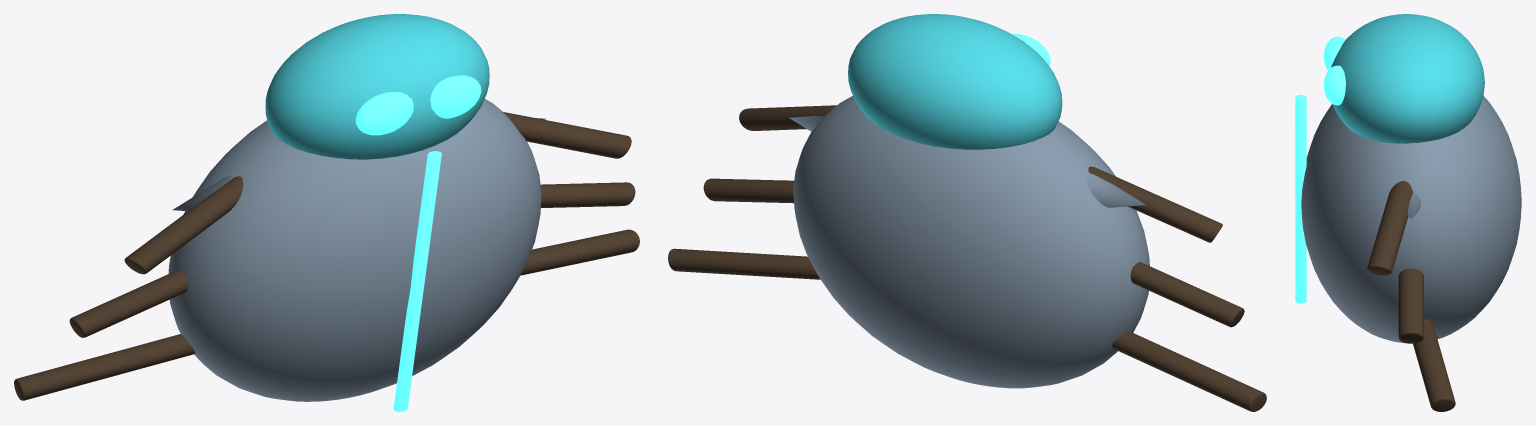
The model's file is crawler_v5.glb.
3 renders of one model, left to right at view 1: azimuth 30°, elevation 25°; view 2: azimuth 150°, elevation 25°; view 3: azimuth 270°, elevation 25°, orthographic. The views are drawn at different scales.
Parts seen in each view (by area): view 1: BEETLE_SHELL_PRIMARY, BEETLE_HEAD_ACCENT, BEETLE_LEG_SECONDARY.004, SHELL_SEAM_EMISSIVE, BEETLE_LEG_SECONDARY, BEETLE_LEG_SECONDARY.002, BEETLE_LEG_SECONDARY.001, BEETLE_LEG_SECONDARY.005, BEETLE_LEG_SECONDARY.003, EYE_EMISSIVE, EYE_EMISSIVE.001; view 2: BEETLE_SHELL_PRIMARY, BEETLE_HEAD_ACCENT, BEETLE_LEG_SECONDARY.004, BEETLE_LEG_SECONDARY.005, BEETLE_LEG_SECONDARY.002, BEETLE_LEG_SECONDARY, BEETLE_LEG_SECONDARY.003, BEETLE_LEG_SECONDARY.001, SHOULDER_TUSK_PRIMARY; view 3: BEETLE_SHELL_PRIMARY, BEETLE_HEAD_ACCENT, BEETLE_LEG_SECONDARY.001, SHELL_SEAM_EMISSIVE, BEETLE_LEG_SECONDARY.005, BEETLE_LEG_SECONDARY.003, EYE_EMISSIVE.001, EYE_EMISSIVE, SHOULDER_TUSK_PRIMARY.001.
Part boxes in pixels (left/top/right/bottom): BEETLE_SHELL_PRIMARY: left=168, top=99, right=541, bottom=401; BEETLE_HEAD_ACCENT: left=265, top=14, right=489, bottom=159; BEETLE_LEG_SECONDARY.004: left=14, top=334, right=195, bottom=400; SHELL_SEAM_EMISSIVE: left=393, top=151, right=441, bottom=411; BEETLE_LEG_SECONDARY: left=124, top=176, right=243, bottom=274; BEETLE_LEG_SECONDARY.002: left=69, top=269, right=188, bottom=337; BEETLE_LEG_SECONDARY.001: left=503, top=112, right=631, bottom=158; BEETLE_LEG_SECONDARY.005: left=520, top=229, right=639, bottom=275; BEETLE_LEG_SECONDARY.003: left=540, top=182, right=635, bottom=207; EYE_EMISSIVE: left=355, top=91, right=413, bottom=135; EYE_EMISSIVE.001: left=430, top=75, right=481, bottom=118; BEETLE_SHELL_PRIMARY: left=793, top=96, right=1149, bottom=388; BEETLE_HEAD_ACCENT: left=848, top=14, right=1062, bottom=149; BEETLE_LEG_SECONDARY.004: left=1112, top=331, right=1266, bottom=411; BEETLE_LEG_SECONDARY.005: left=668, top=248, right=820, bottom=279; BEETLE_LEG_SECONDARY.002: left=1130, top=262, right=1244, bottom=327; BEETLE_LEG_SECONDARY: left=1088, top=166, right=1222, bottom=242; BEETLE_LEG_SECONDARY.003: left=703, top=178, right=794, bottom=203; BEETLE_LEG_SECONDARY.001: left=739, top=105, right=836, bottom=130; SHOULDER_TUSK_PRIMARY: left=1086, top=173, right=1145, bottom=207; BEETLE_SHELL_PRIMARY: left=1301, top=96, right=1521, bottom=343; BEETLE_HEAD_ACCENT: left=1331, top=14, right=1484, bottom=143; BEETLE_LEG_SECONDARY.001: left=1367, top=181, right=1412, bottom=275; SHELL_SEAM_EMISSIVE: left=1295, top=95, right=1306, bottom=303; BEETLE_LEG_SECONDARY.005: left=1413, top=319, right=1455, bottom=411; BEETLE_LEG_SECONDARY.003: left=1398, top=268, right=1423, bottom=343; EYE_EMISSIVE.001: left=1323, top=65, right=1345, bottom=105; EYE_EMISSIVE: left=1323, top=36, right=1345, bottom=70; SHOULDER_TUSK_PRIMARY.001: left=1407, top=192, right=1420, bottom=219.
Bounding box in the file's own units: 2.52 × 1.38 × 0.9046.
